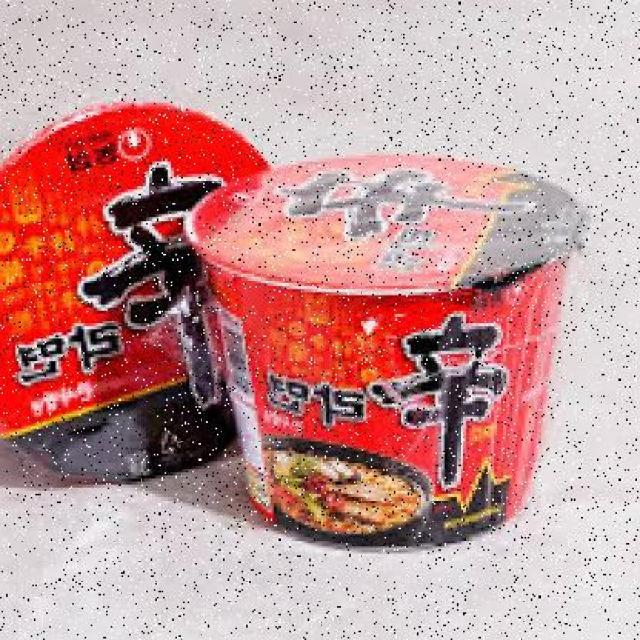Miscellaneous: (185, 160, 590, 534), (0, 90, 286, 488)
